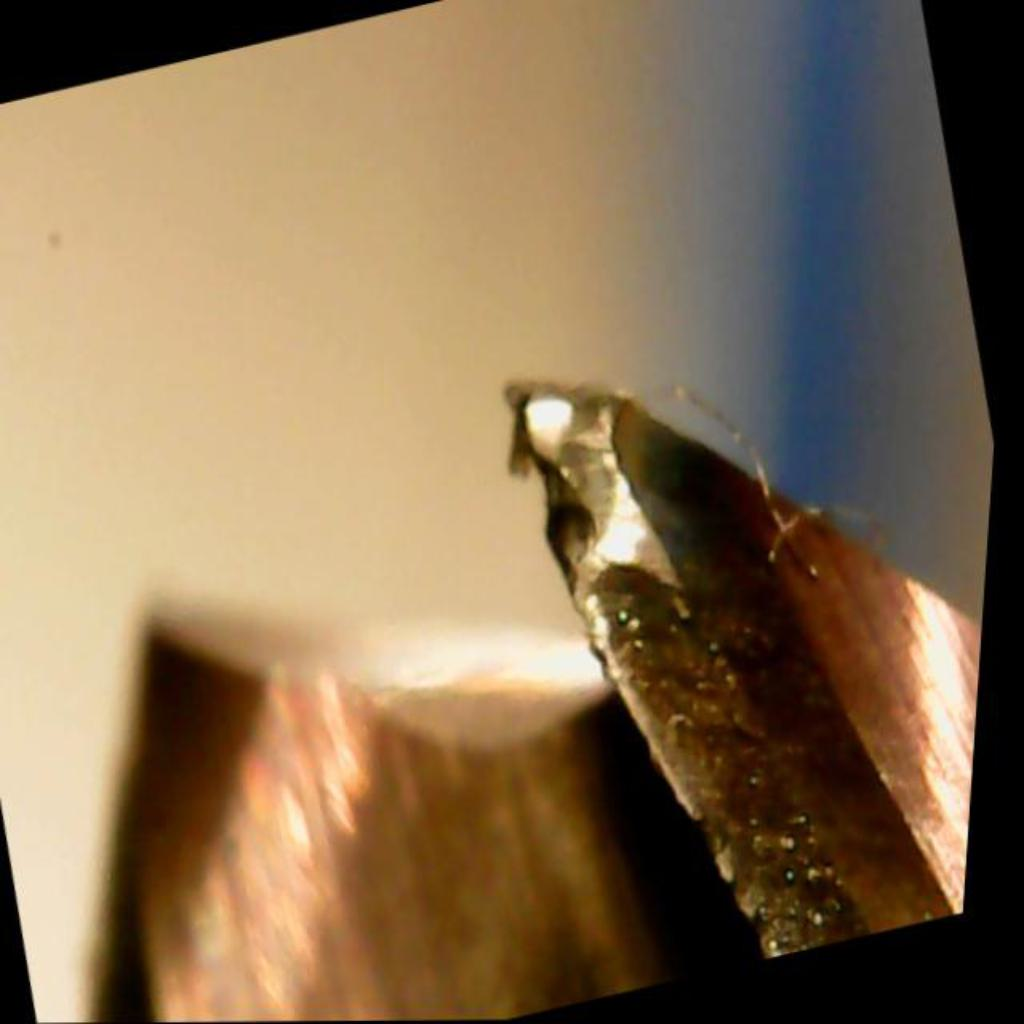Tool-wear-class-2: (463, 310, 937, 937)
